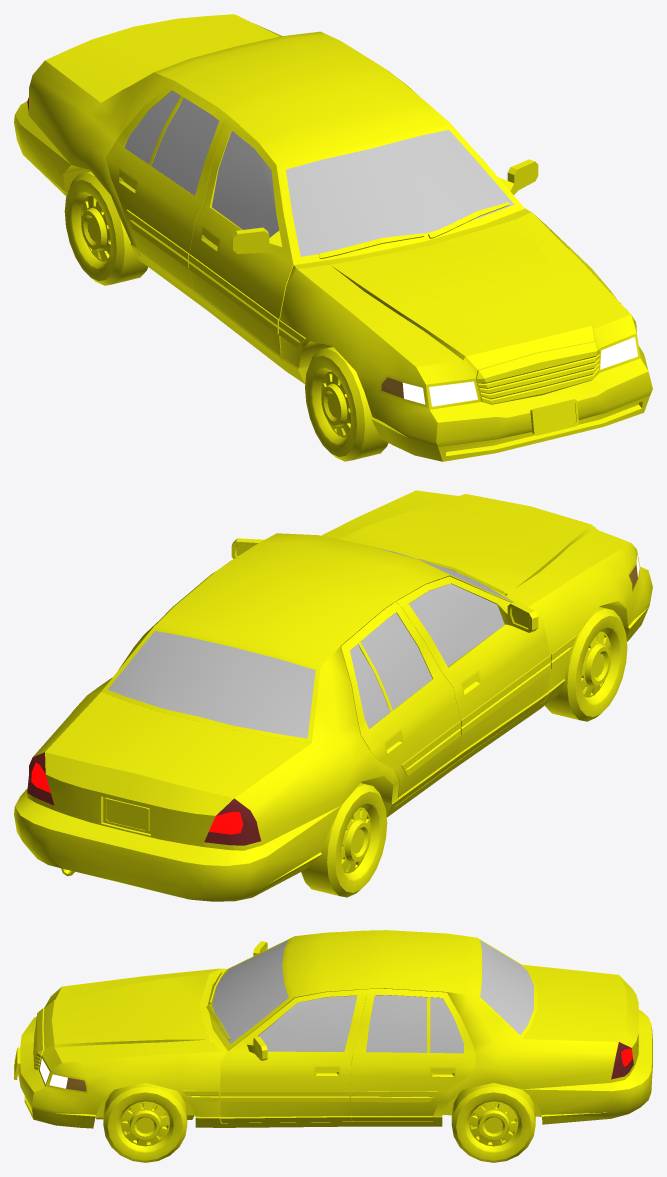
Rendered from us_sedan.glb.
The picture shows the model from 3 angles, top to bottom: view 1: azimuth 30°, elevation 25°; view 2: azimuth 150°, elevation 25°; view 3: azimuth 270°, elevation 25°; orthographic projection. The views are drawn at different scales.
Visible parts, largest first — view 1: Base_Car, Car_hood, CDoor_FR, CDoor_BR, Car_trunk, C_WheelFR, C_Wheels_B, CDoor_FL; view 2: Base_Car, Car_trunk, Car_hood, CDoor_FR, CDoor_BR, C_Wheels_B, C_WheelFR; view 3: Base_Car, CDoor_FL, CDoor_BL, Car_hood, Car_trunk, C_WheelFL, C_Wheels_B.
Part boxes in pixels (<box>): Base_Car: <box>14,16,652,461</box>; Car_hood: <box>297,212,630,366</box>; CDoor_FR: <box>188,118,293,363</box>; CDoor_BR: <box>106,82,230,296</box>; Car_trunk: <box>45,14,279,102</box>; C_WheelFR: <box>305,347,388,461</box>; C_Wheels_B: <box>64,171,148,285</box>; CDoor_FL: <box>399,80,538,208</box>; Base_Car: <box>14,490,652,901</box>; Car_trunk: <box>45,692,310,846</box>; Car_hood: <box>321,490,630,604</box>; CDoor_FR: <box>396,576,550,765</box>; CDoor_BR: <box>341,602,460,806</box>; C_Wheels_B: <box>301,783,387,897</box>; C_WheelFR: <box>545,606,627,721</box>; Base_Car: <box>14,930,652,1128</box>; CDoor_FL: <box>220,989,366,1122</box>; CDoor_BL: <box>350,989,475,1121</box>; Car_hood: <box>52,968,219,1062</box>; Car_trunk: <box>522,964,638,1067</box>; C_WheelFL: <box>103,1082,187,1162</box>; C_Wheels_B: <box>451,1083,535,1162</box>.
Size of the model in its own units: 2.16 by 1.52 by 5.4.
9 materials, 3 textured.
